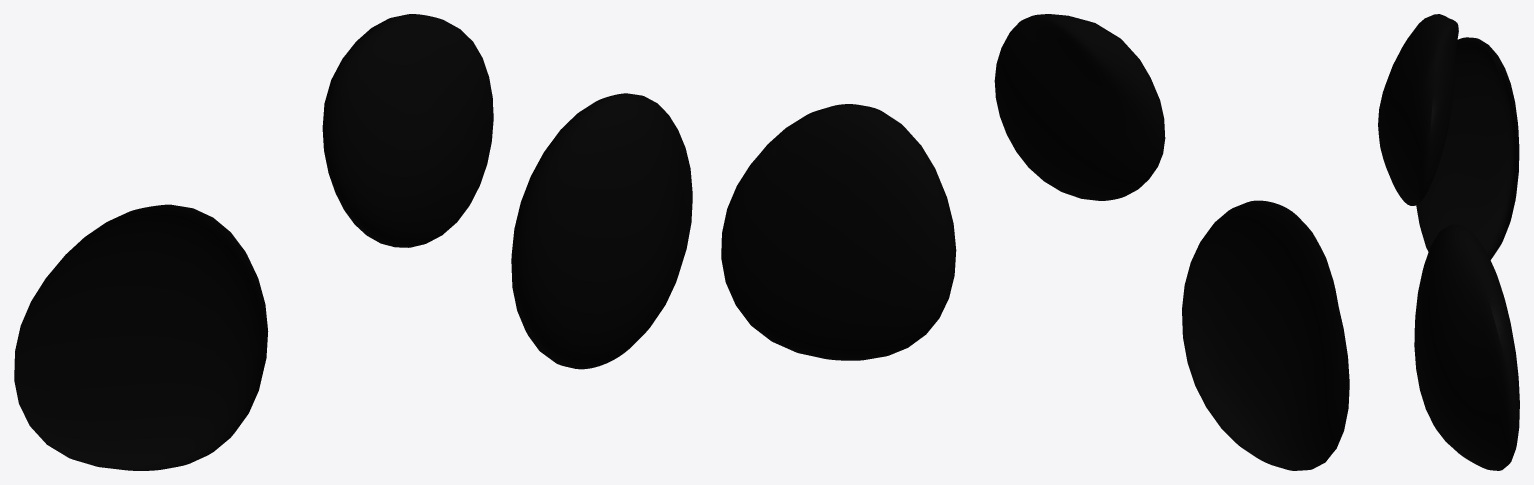
Rendered from Cartoon Third Eye.glb.
3 views of the same model, side by side, from view 1: azimuth 30°, elevation 25°; view 2: azimuth 150°, elevation 25°; view 3: azimuth 270°, elevation 25° (orthographic). The views are drawn at different scales.
Parts seen in each view (by area): view 1: Sphere.002; view 2: Sphere.002; view 3: Sphere.002.
Part boxes in pixels (left/top/right/bottom): Sphere.002: left=14, top=14, right=692, bottom=470; Sphere.002: left=721, top=14, right=1349, bottom=470; Sphere.002: left=1378, top=14, right=1519, bottom=470.
Size of the model in its own units: 0.3462 by 0.1997 by 0.0746.
1 material, 1 textured.
